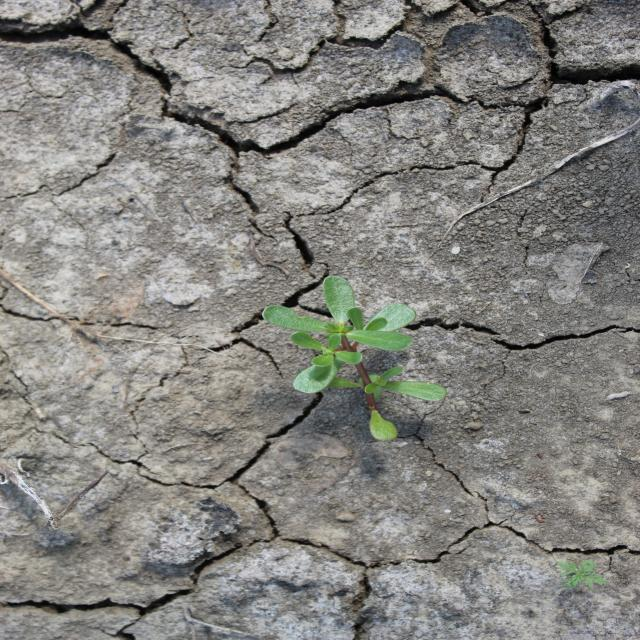Purslane: (259, 275, 450, 443)
Ragweed: (554, 556, 611, 590)
